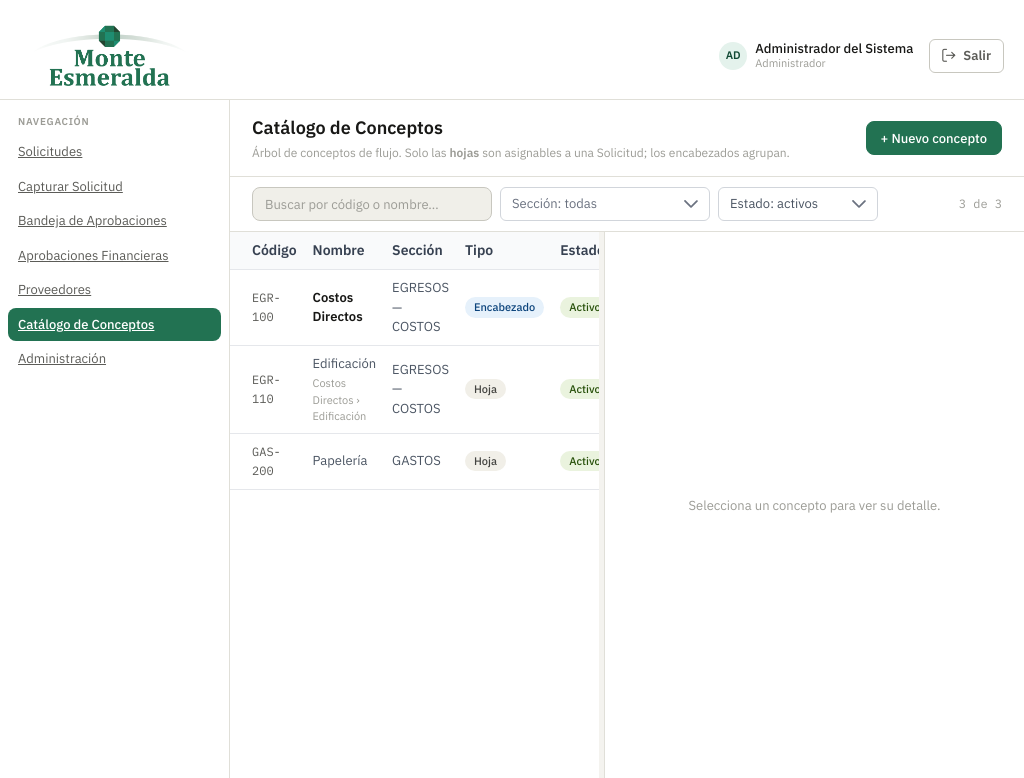
Test: seleccionar una fila abre el panel de detalle
Expected: the text "Selecciona un concepto para ver su detalle." is shown, [688,496,940,516]
Step 1. Click the text "Edificación" → (344, 363), box [313,354,376,373]
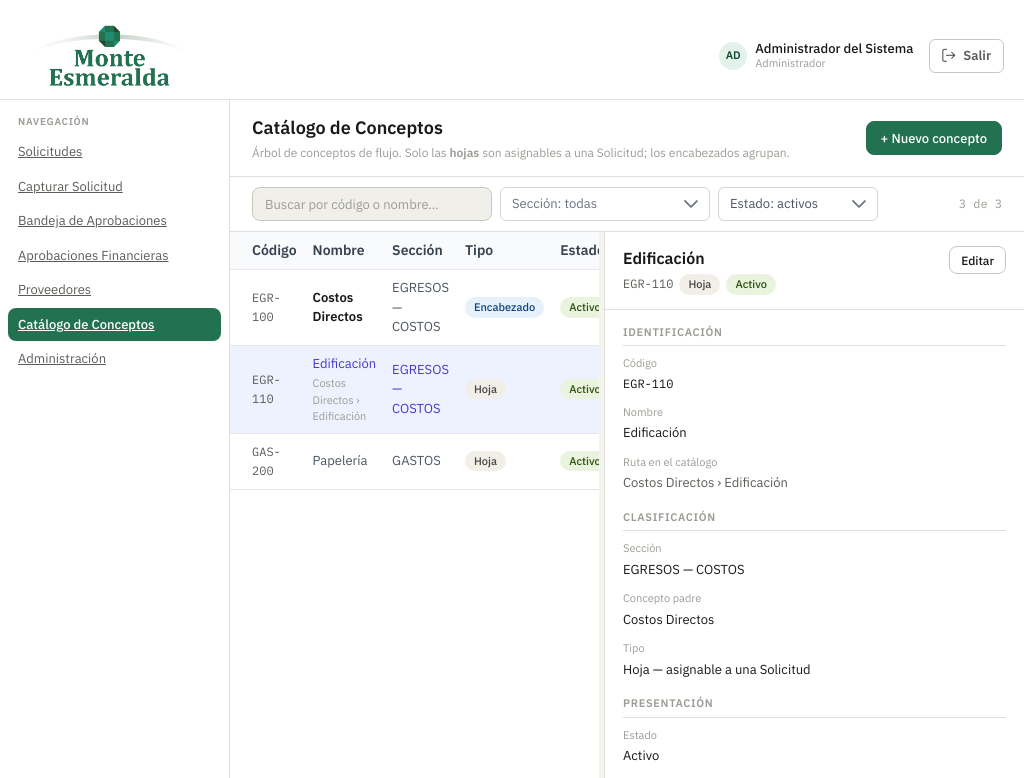
Expected: the text "Ruta en el catálogo" is shown, [623,454,717,468]
Expected: the text "Costos Directos › Edificación" below "Ruta en el catálogo" is shown, [623,474,788,491]
Expected: the text "EGRESOS — COSTOS" is shown, [623,560,744,578]
